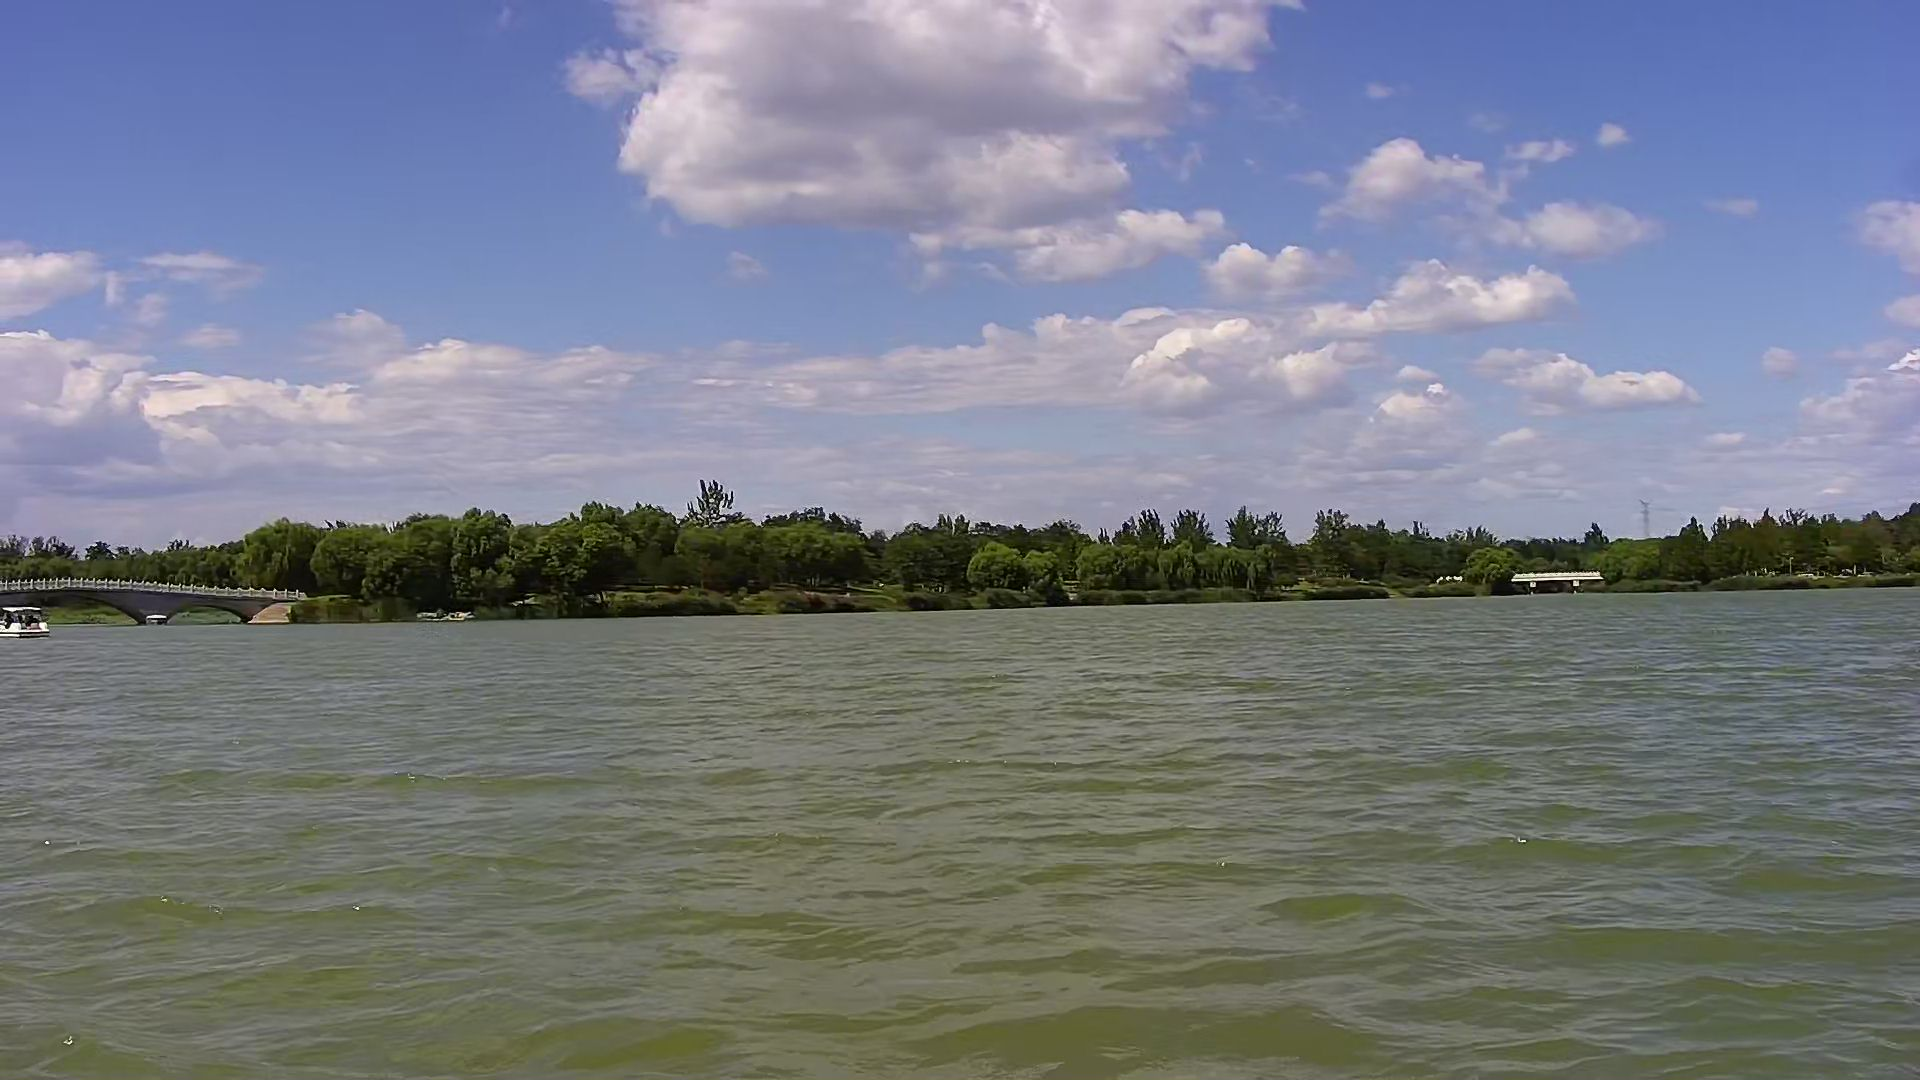boat: (9, 608, 59, 647)
bridge: (3, 564, 311, 628)
